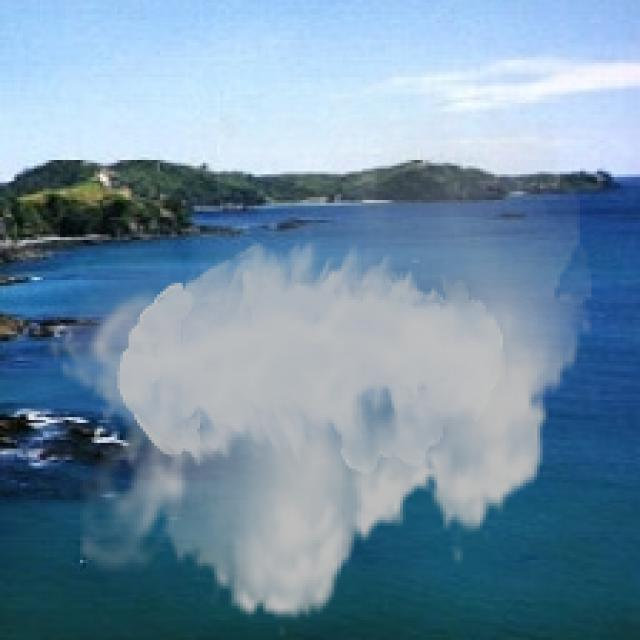smoke: (46, 86, 594, 637)
